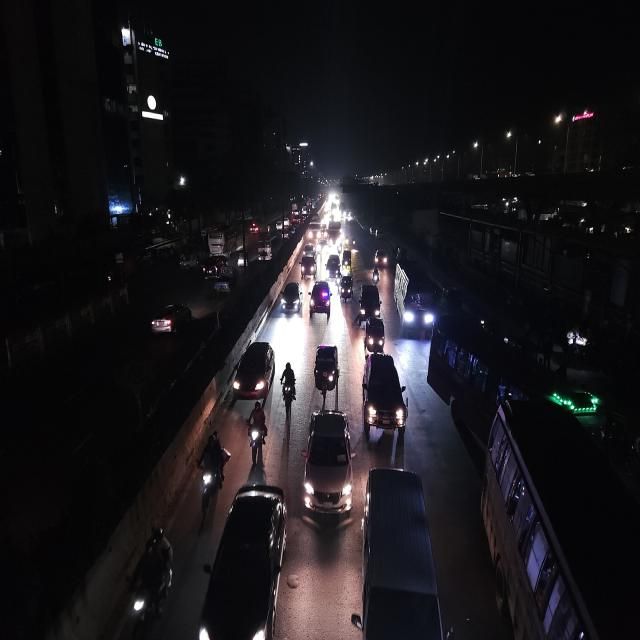bus: (485, 396, 639, 640), (392, 254, 438, 338), (205, 223, 239, 256)
car: (358, 463, 444, 640), (199, 478, 288, 640), (302, 404, 353, 526), (360, 349, 408, 444), (231, 335, 277, 405), (150, 299, 194, 342), (308, 276, 333, 321), (358, 282, 382, 326), (278, 277, 302, 319), (200, 253, 232, 282), (364, 314, 386, 353), (212, 266, 238, 297), (256, 235, 276, 264), (324, 252, 342, 284), (299, 253, 319, 280), (373, 245, 389, 268), (371, 258, 385, 283), (301, 241, 317, 258), (248, 218, 260, 234), (368, 223, 379, 240)
cng: (312, 341, 341, 400), (338, 270, 354, 304)
motorcycle: (126, 522, 175, 640), (195, 427, 229, 517), (245, 397, 269, 462), (280, 358, 297, 412), (371, 265, 381, 288), (349, 236, 359, 252)
